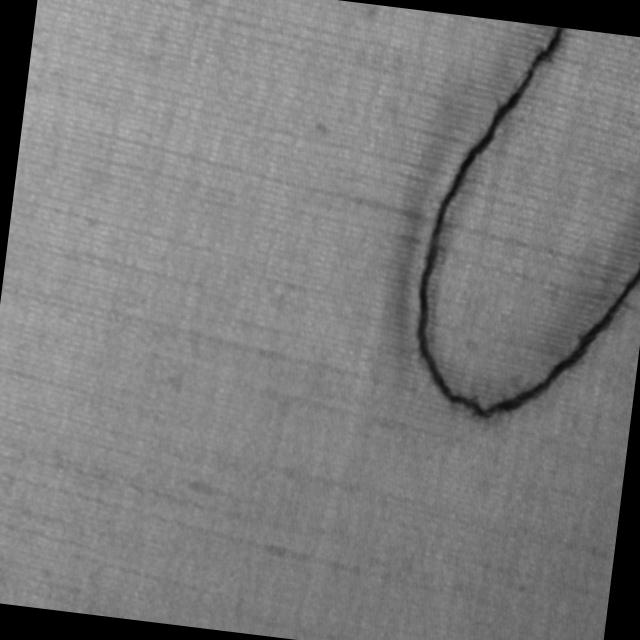objects: (395, 13, 640, 442)
